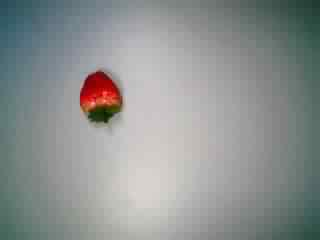strawberry: (65, 68, 130, 130)
